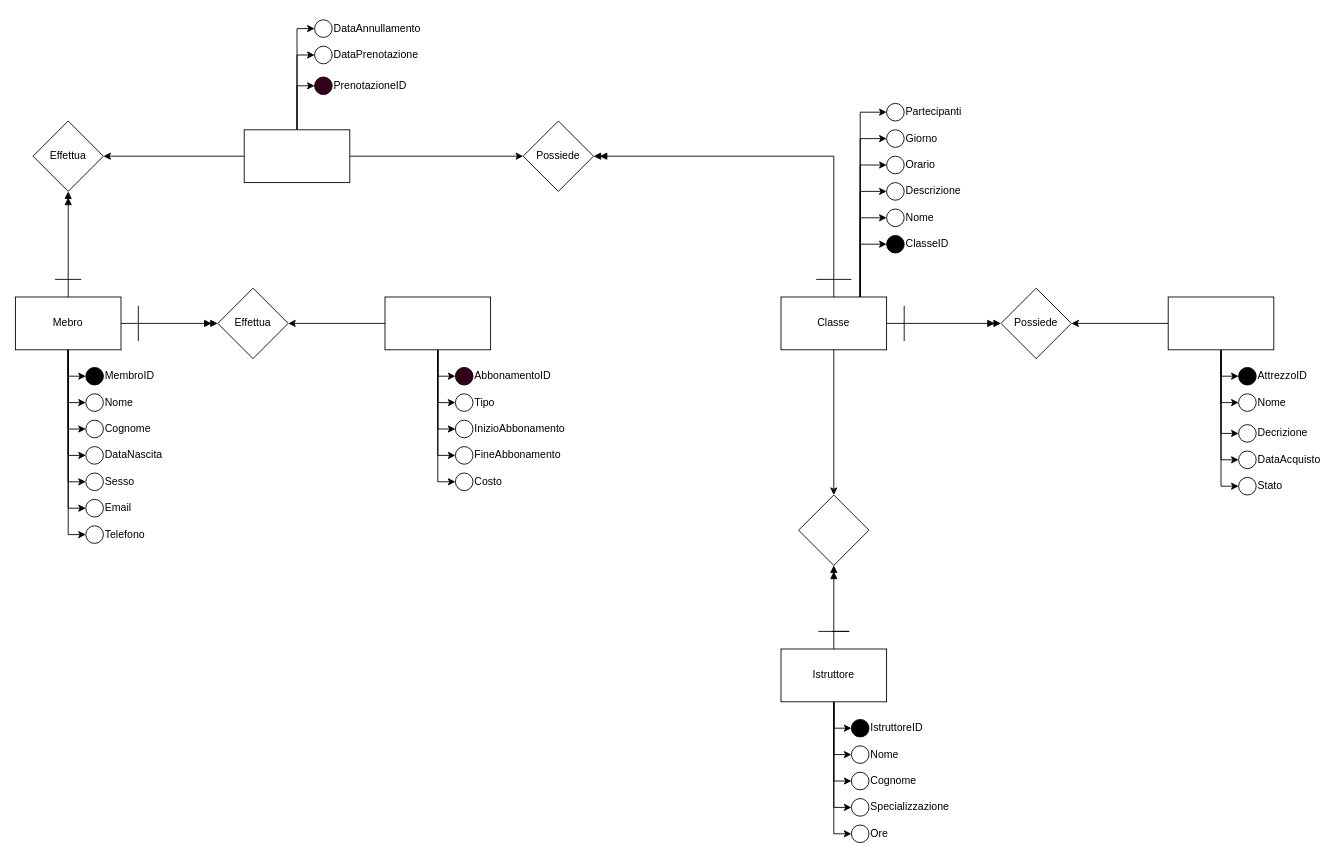
The diagram is 1336 pixels wide and 862 high, and some of its shapes have lost their labels. The box of each missing label's shape, as (x1, y1, x2, y2) in pixels:
Abbonamento: (384, 296, 491, 350)
Attrezzo: (1167, 296, 1274, 350)
Gestisce: (798, 494, 869, 565)
Prenotazione: (243, 129, 350, 183)
